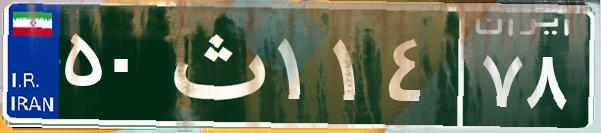0: (110, 28, 158, 105)
1: (273, 28, 330, 110), (330, 28, 385, 110)
4: (385, 28, 445, 110)
5: (57, 26, 110, 107)
7: (475, 38, 525, 113)
8: (525, 38, 570, 115)
ث: (158, 15, 273, 115)
